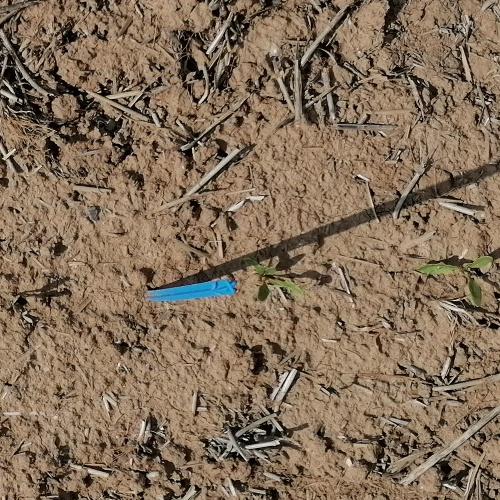beet: (416, 255, 492, 307), (255, 263, 302, 302)
